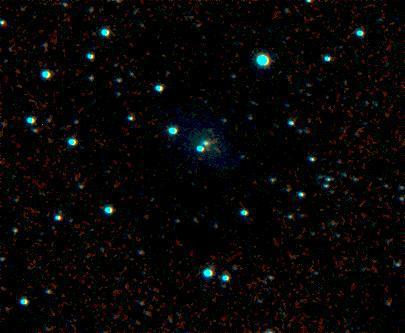star: (193, 135, 223, 165)
